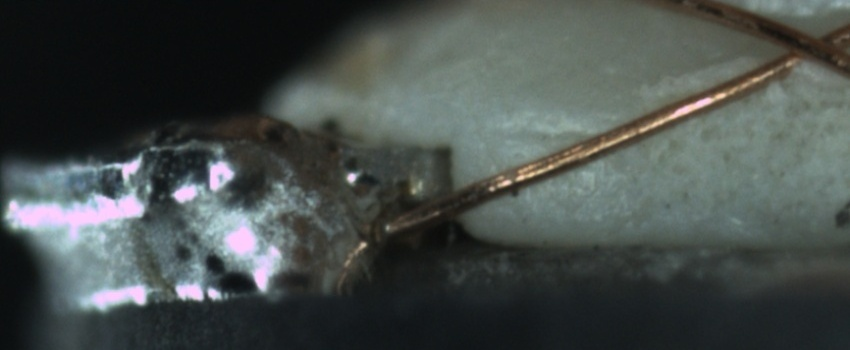CL: (761, 17, 843, 74)
DL: (497, 100, 625, 164)
